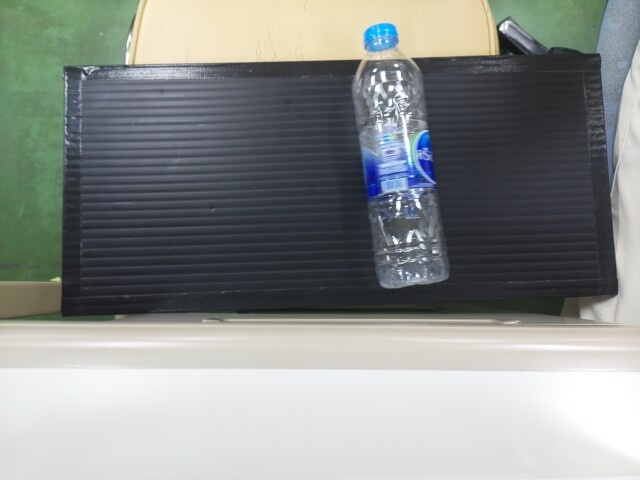plastic_bottle: (355, 27, 450, 285)
